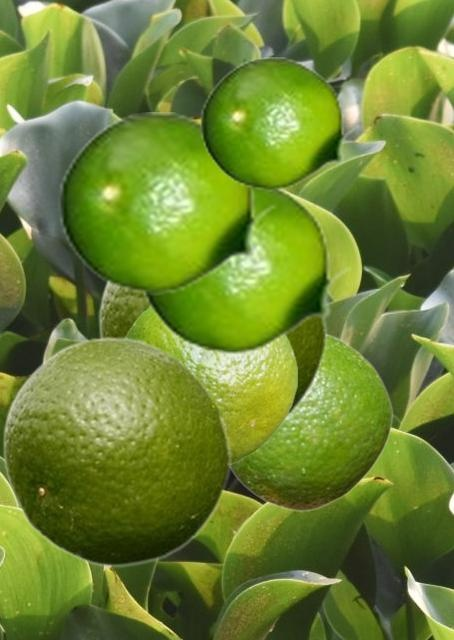calamansi: (2, 334, 231, 567), (57, 112, 277, 294), (137, 189, 352, 354), (98, 283, 327, 421), (232, 333, 392, 511), (124, 305, 296, 465), (199, 57, 360, 190)
